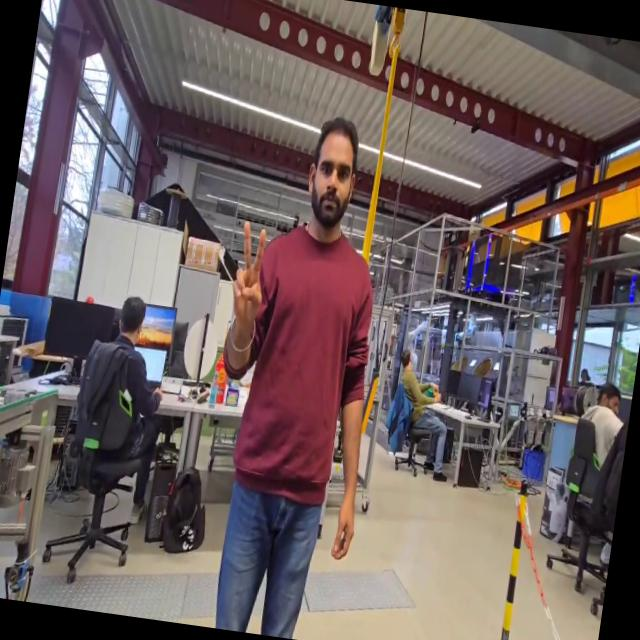v_sign: (222, 216, 274, 342)
